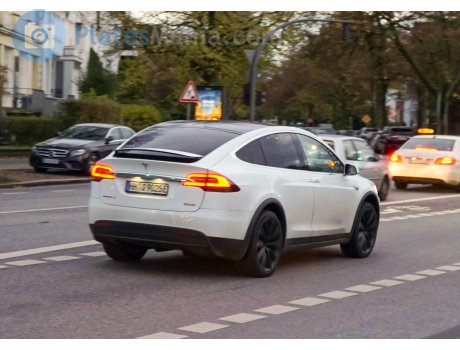License Plates: (128, 182, 166, 192)
